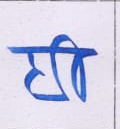i_matra: (57, 34, 90, 100)
